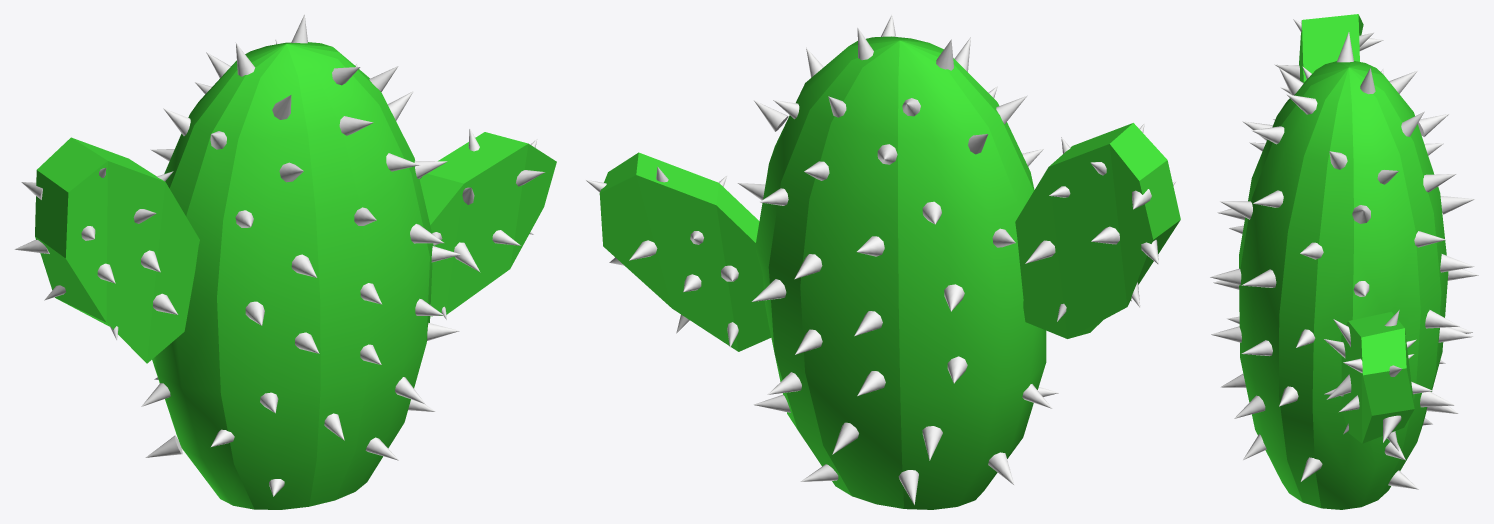
The model's file is cactusNormal.fbx.
The picture shows the model from 3 angles, left to right: view 1: azimuth 30°, elevation 25°; view 2: azimuth 150°, elevation 25°; view 3: azimuth 270°, elevation 25°; orthographic projection. The views are drawn at different scales.
Parts seen in each view (by area): view 1: Sphere001, hoja003, hoja2; view 2: Sphere001, hoja003, hoja2; view 3: Sphere001, hoja2, hoja003, Cone011, Cone032, Cone029, Cone039, Cone038, Cone036, Cone017, Cone020, Cone014 (+4 smaller).
Part boxes in pixels (x1=…): Sphere001: x1=152, y1=42, x2=433, y2=509; hoja003: x1=35, y1=137, x2=199, y2=363; hoja2: x1=419, y1=132, x2=556, y2=316; Sphere001: x1=755, y1=36, x2=1046, y2=509; hoja003: x1=1015, y1=123, x2=1180, y2=338; hoja2: x1=599, y1=152, x2=771, y2=351; Sphere001: x1=1239, y1=61, x2=1448, y2=509; hoja2: x1=1341, y1=311, x2=1414, y2=443; hoja003: x1=1299, y1=14, x2=1363, y2=82; Cone011: x1=1241, y1=269, x2=1276, y2=287; Cone032: x1=1425, y1=310, x2=1459, y2=328; Cone029: x1=1420, y1=391, x2=1454, y2=407; Cone039: x1=1423, y1=174, x2=1456, y2=192; Cone038: x1=1440, y1=196, x2=1474, y2=214; Cone036: x1=1440, y1=254, x2=1474, y2=272; Cone017: x1=1252, y1=126, x2=1284, y2=144; Cone020: x1=1286, y1=94, x2=1317, y2=114; Cone014: x1=1220, y1=201, x2=1252, y2=219.
Bounding box in the file's own units: 6.02 × 4.78 × 2.75.
